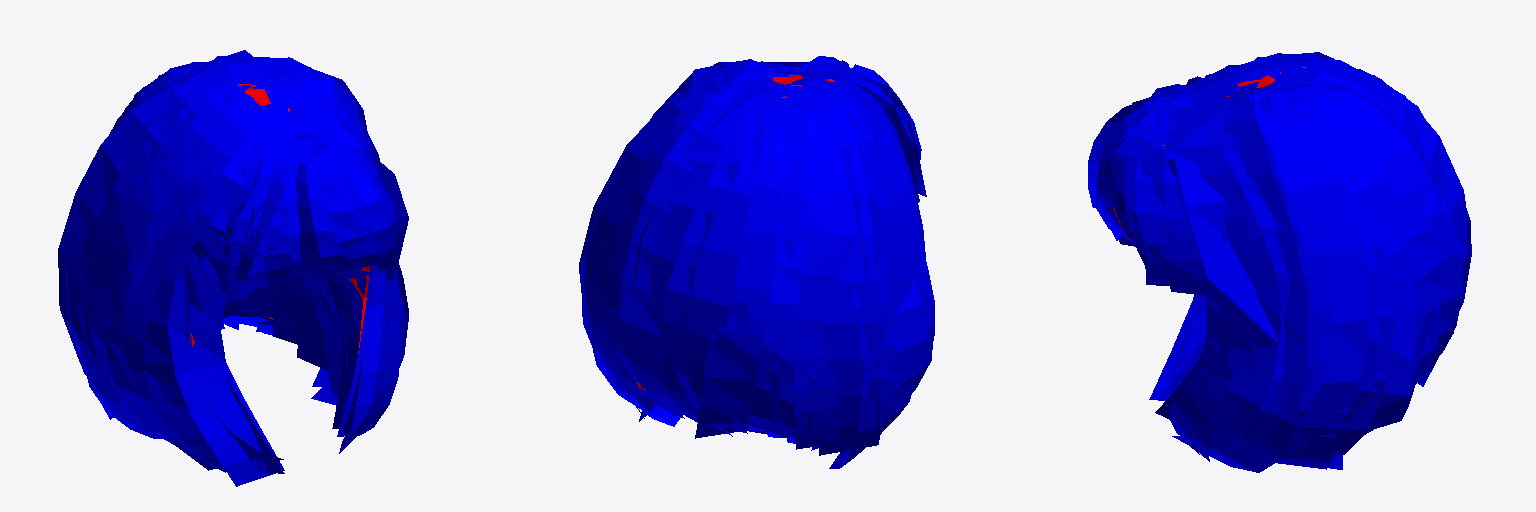
Rendered from hair_005.obj.
3 views of the same model, side by side, from view 1: azimuth 30°, elevation 25°; view 2: azimuth 150°, elevation 25°; view 3: azimuth 270°, elevation 25° (orthographic).
Size of the model in its own units: 25.32 by 28.12 by 27.16.